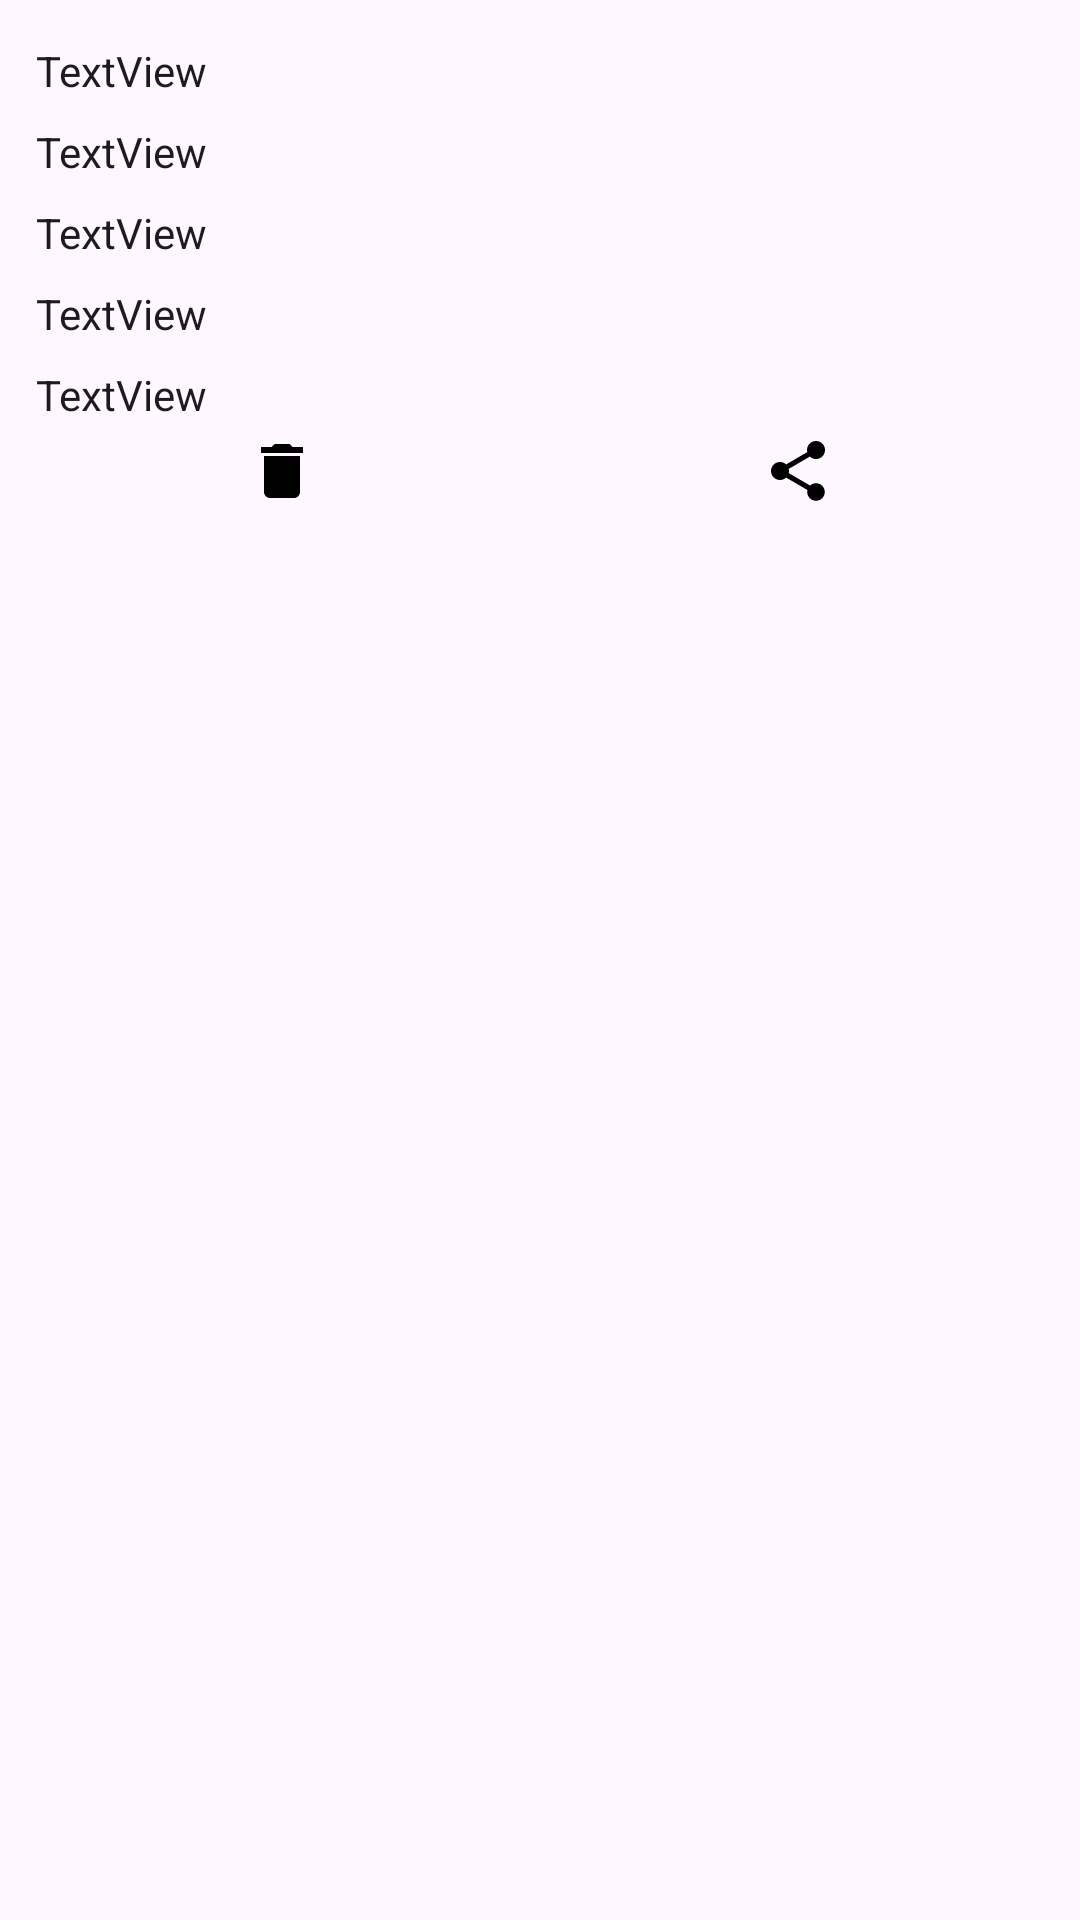

Screen size 1080px x 1920px. Icon name, then its box in pixels as (x1, y1, x2, y2):
delete: (261, 444, 303, 498)
share: (771, 441, 825, 501)
